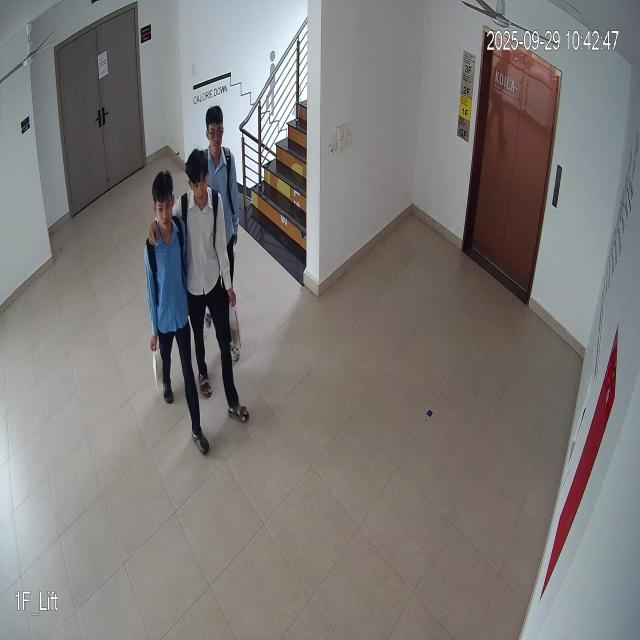face: (152, 175, 175, 240), (187, 148, 209, 211), (207, 105, 225, 161)
